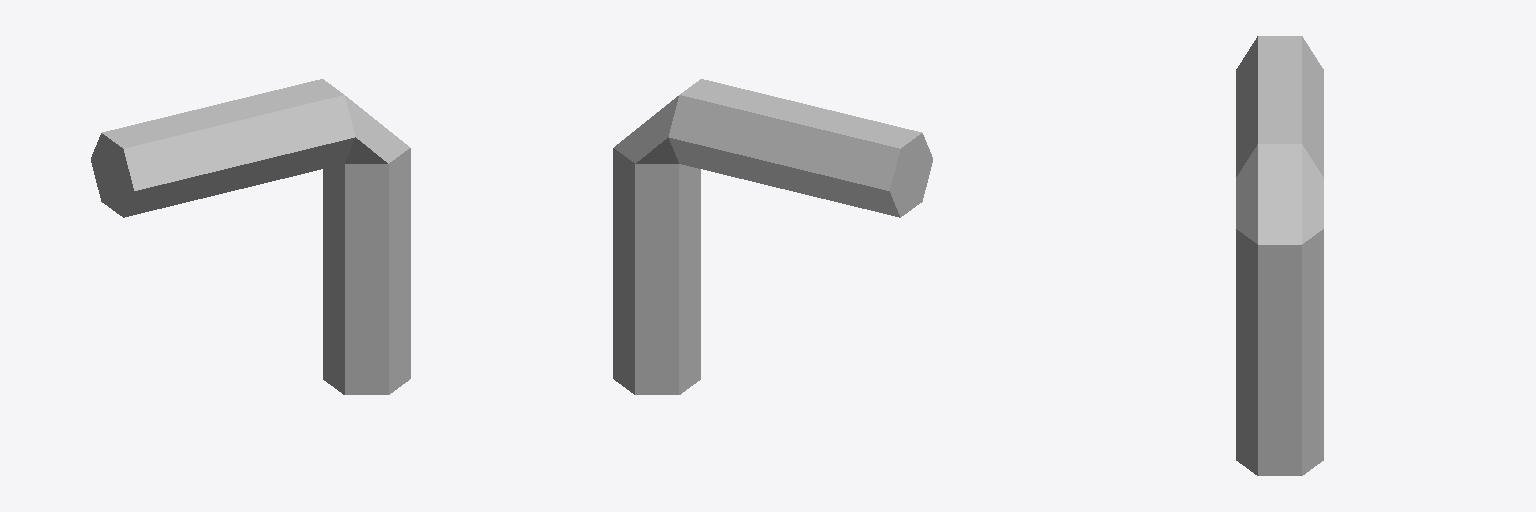
File: spaceInterior_004.obj
The picture shows the model from 3 angles: view 1: azimuth 30°, elevation 25°; view 2: azimuth 150°, elevation 25°; view 3: azimuth 270°, elevation 25°; orthographic projection.
Visible parts, largest first — view 1: Mesh1 Group1 Model; view 2: Mesh1 Group1 Model; view 3: Mesh1 Group1 Model.
Part boxes in pixels (left/top/right/bottom): Mesh1 Group1 Model: left=91, top=79, right=410, bottom=394; Mesh1 Group1 Model: left=613, top=79, right=932, bottom=394; Mesh1 Group1 Model: left=1236, top=36, right=1323, bottom=475.
Size of the model in its own units: 0.3245 by 0.3245 by 0.086.